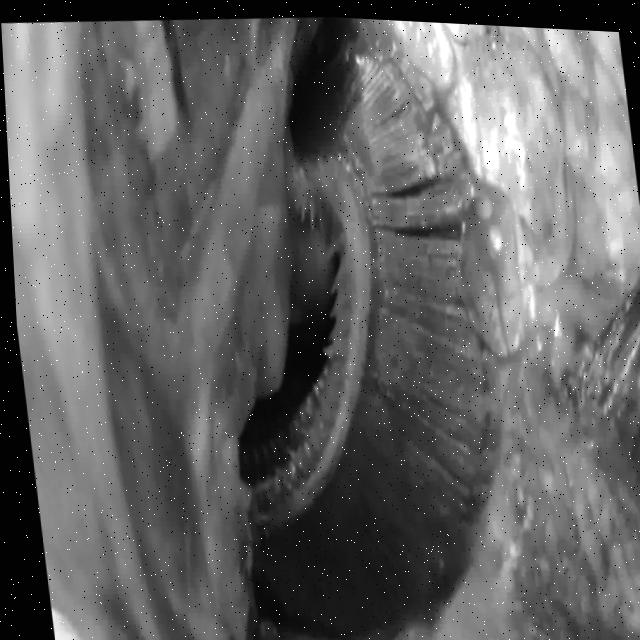Non-Fresh: (189, 21, 536, 640)
